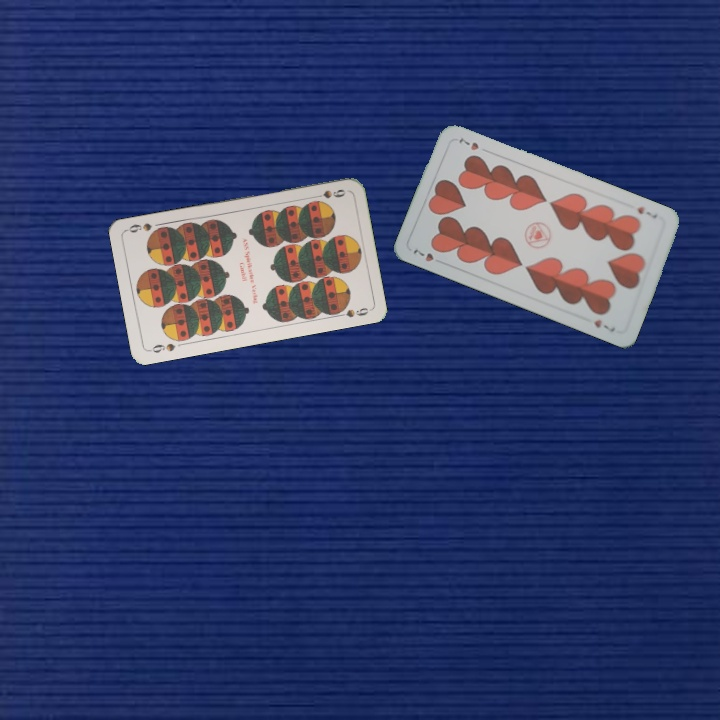H7: (409, 245, 446, 266), (633, 202, 660, 222)
S9: (309, 185, 348, 201), (145, 339, 178, 355)
